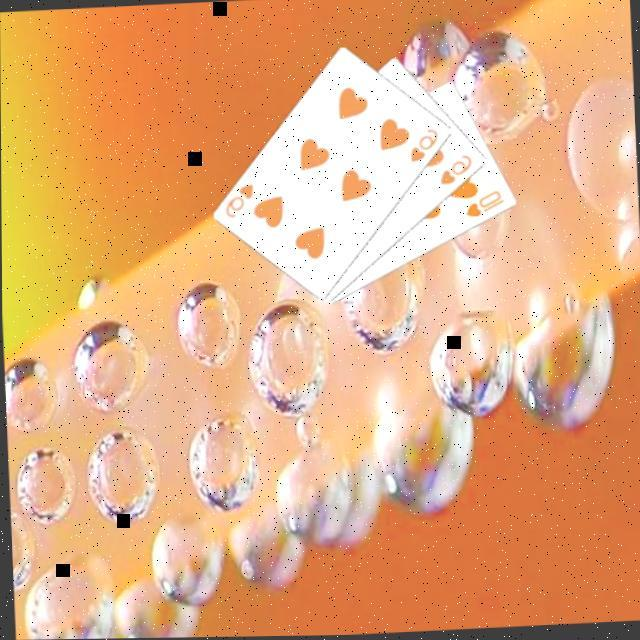10H: (458, 186, 506, 220)
6H: (220, 179, 256, 220), (434, 151, 474, 187), (405, 124, 441, 164)
